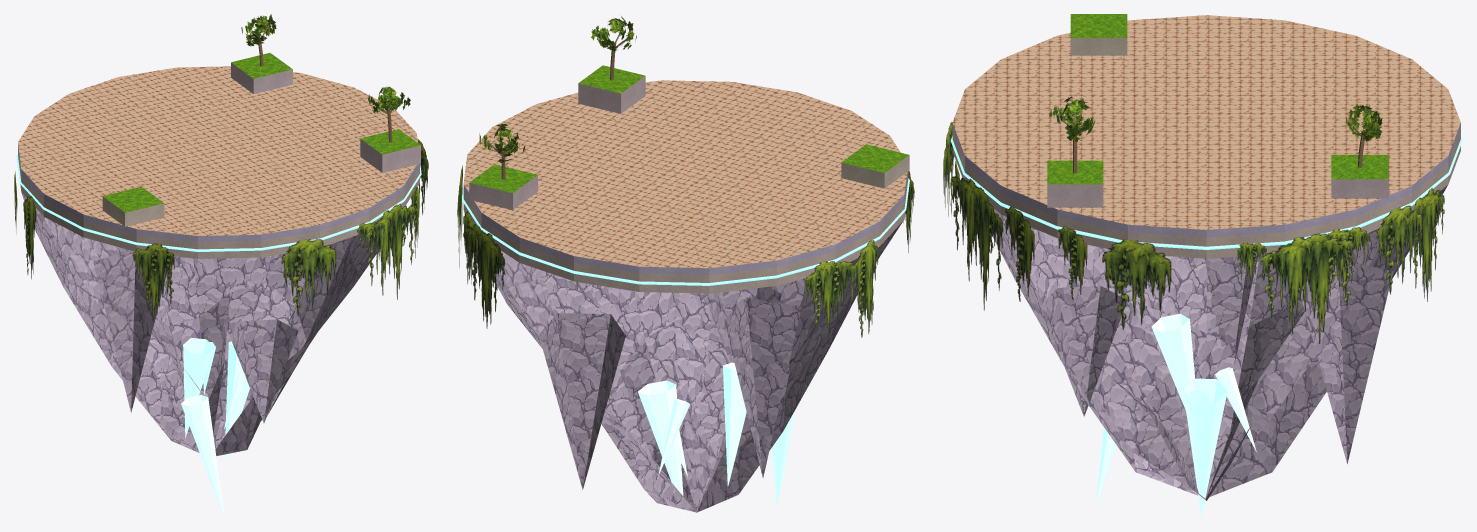
The model's file is SKY_ISLAND_11.glb.
3 renders of one model, left to right at view 1: azimuth 30°, elevation 25°; view 2: azimuth 150°, elevation 25°; view 3: azimuth 270°, elevation 25°, orthographic. The views are drawn at different scales.
Parts seen in each view (by area): view 1: S_HaloIsle_Skin.001, S_HaloIsle_Moss.001, S_HaloIsle_Crystals.001, S_HaloIsle_Trees.001; view 2: S_HaloIsle_Skin.001, S_HaloIsle_Moss.001, S_HaloIsle_Crystals.001, S_HaloIsle_Trees.001; view 3: S_HaloIsle_Skin.001, S_HaloIsle_Moss.001, S_HaloIsle_Crystals.001, S_HaloIsle_Trees.001.
Part boxes in pixels (x1,y1,x2,y2): S_HaloIsle_Skin.001: (16,53,421,455); S_HaloIsle_Moss.001: (14,139,428,321); S_HaloIsle_Crystals.001: (181,337,249,517); S_HaloIsle_Trees.001: (241,14,410,142); S_HaloIsle_Skin.001: (462,65,909,512); S_HaloIsle_Moss.001: (457,165,914,337); S_HaloIsle_Crystals.001: (638,362,795,516); S_HaloIsle_Trees.001: (479,16,636,179); S_HaloIsle_Skin.001: (950,14,1462,500); S_HaloIsle_Moss.001: (943,122,1444,343); S_HaloIsle_Crystals.001: (1096,313,1256,516); S_HaloIsle_Trees.001: (1049,96,1382,173).
Size of the model in its own units: 24.56 by 26.34 by 24.53.
9 materials, 7 textured.
